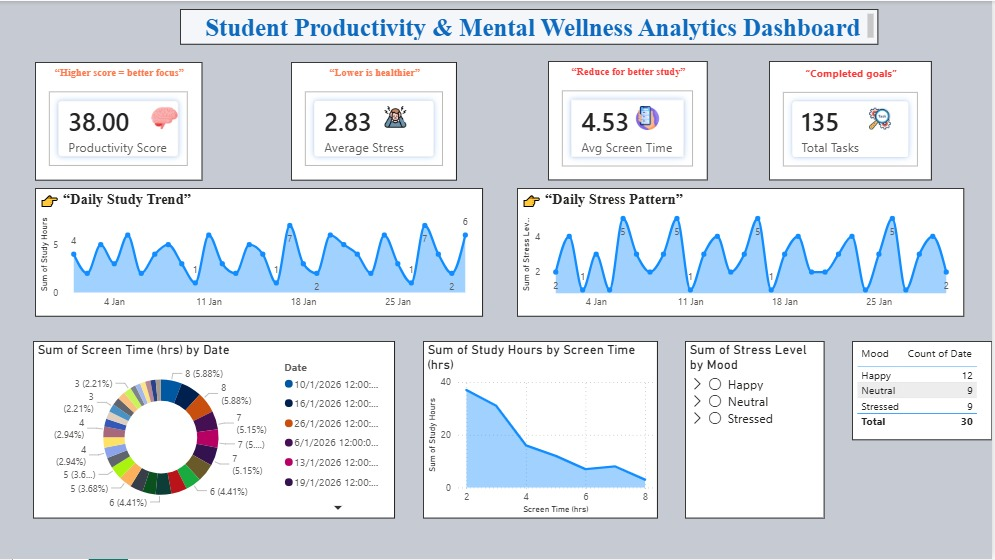

The page's visual inventory and layout, read from the dashboard file:
{"tool":"powerbi","page":{"name":"Page 1","canvas":[1280,720],"ordinal":0},"visuals":[{"type":"cardVisual","fields":{"Data":["Sheet1.Productivity Score"]},"box":[45.7,78.6,215.7,152.9],"z":0},{"type":"cardVisual","fields":{"Data":["Sheet1.Average Stress"]},"box":[375.7,78.6,214.3,152.9],"z":1000},{"type":"cardVisual","fields":{"Data":["Sheet1.Avg Screen Time"]},"box":[707.1,77.1,205.7,154.3],"z":2000},{"type":"cardVisual","fields":{"Data":["Sheet1.Total Tasks"]},"box":[992.9,77.1,210,154.3],"z":3000},{"type":"areaChart","title":"👉 “Daily Study Trend”","fields":{"Category":["Sheet1.Date"],"Y":["Sum(Sheet1.Study Hours)"]},"box":[45.4,240.9,578.3,165.8],"z":4000},{"type":"areaChart","title":"👉 “Daily Stress Pattern”","fields":{"Category":["Sheet1.Date"],"Y":["Sum(Sheet1.  Stress Level)"]},"box":[667.6,240.9,576.9,165.8],"z":5000},{"type":"tableEx","fields":{"Values":["Sheet1.  Mood","Sheet1.Date"]},"box":[1098.7,439.2,181,127.8],"z":6000},{"type":"donutChart","fields":{"Category":["Sheet1.Date"],"Y":["Sum(Sheet1.  Screen Time (hrs))"]},"box":[43,439.2,467.1,229.1],"z":7000},{"type":"image","box":[192.4,134.2,40.5,34.2],"z":8000},{"type":"image","box":[494.8,135.4,31.2,28.1],"z":9000},{"type":"image","box":[809.4,135.4,53.1,31.2],"z":10000},{"type":"image","box":[1120.8,136.5,28.1,30.2],"z":11000},{"type":"stackedAreaChart","fields":{"Category":["Sheet1.  Screen Time (hrs)"],"Y":["Sum(Sheet1.Study Hours)"]},"box":[545.6,439.2,302.5,229.1],"z":12000},{"type":"listSlicer","fields":{"Values":["Sheet1.  Mood","Sheet1.Date.Variation.Date Hierarchy.Year","Sheet1.Date.Variation.Date Hierarchy.Quarter","Sheet1.Date.Variation.Date Hierarchy.Month","Sheet1.Date.Variation.Date Hierarchy.Day"]},"box":[883.5,439.2,179.7,229.1],"z":13000},{"type":"textbox","box":[232.9,10,901.4,45.7],"z":13001}]}

Visuals, with their boxes in screenshot pixels (x1, y1, x2, y2), scaled from the page's 1280x720 canvas onto the 995x560 screenshot:
cardVisual - Sheet1.Productivity Score: <bbox>36, 61, 203, 180</bbox>
cardVisual - Sheet1.Average Stress: <bbox>292, 61, 459, 180</bbox>
cardVisual - Sheet1.Avg Screen Time: <bbox>550, 60, 710, 180</bbox>
cardVisual - Sheet1.Total Tasks: <bbox>772, 60, 935, 180</bbox>
"👉 “Daily Study Trend”" areaChart: <bbox>35, 187, 485, 316</bbox>
"👉 “Daily Stress Pattern”" areaChart: <bbox>519, 187, 967, 316</bbox>
tableEx - Sheet1.  Mood x Sheet1.Date: <bbox>854, 342, 994, 441</bbox>
donutChart - Sheet1.Date x Sum(Sheet1.  Screen Time (hrs)): <bbox>33, 342, 397, 520</bbox>
image: <bbox>150, 104, 181, 131</bbox>
image: <bbox>385, 105, 409, 127</bbox>
image: <bbox>629, 105, 670, 130</bbox>
image: <bbox>871, 106, 893, 130</bbox>
stackedAreaChart - Sheet1.  Screen Time (hrs) x Sum(Sheet1.Study Hours): <bbox>424, 342, 659, 520</bbox>
listSlicer - Sheet1.  Mood x Sheet1.Date.Variation.Date Hierarchy.Year: <bbox>687, 342, 826, 520</bbox>
textbox: <bbox>181, 8, 882, 43</bbox>
